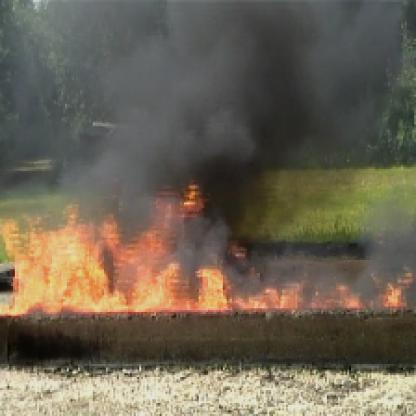Fire: (4, 182, 230, 319)
Smoke: (110, 2, 364, 187)
